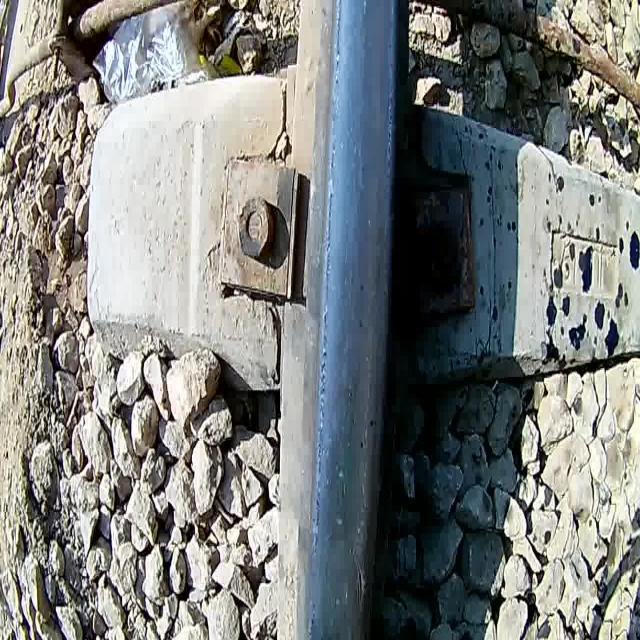Cracks: (344, 539, 372, 637)
Flakings: (307, 101, 343, 564)
Squats: (320, 425, 368, 550)
